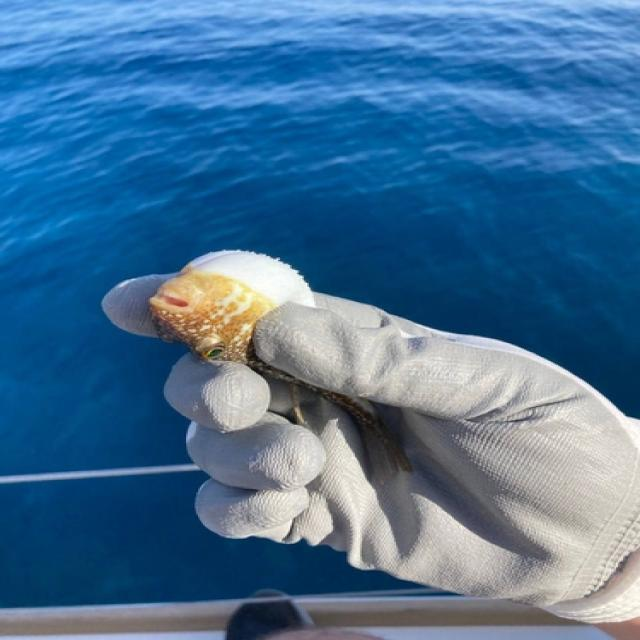Balik: (151, 251, 411, 482)
